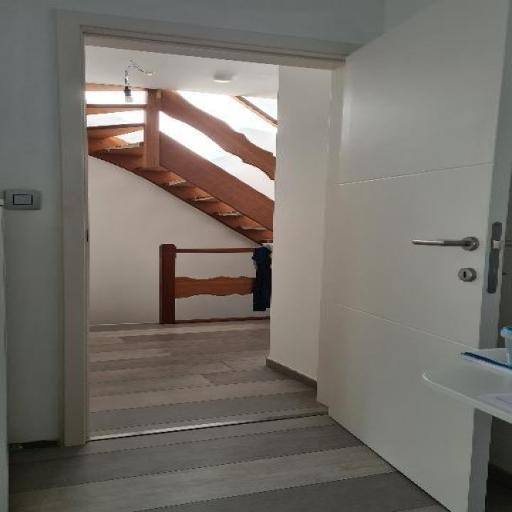door: (47, 5, 411, 454)
